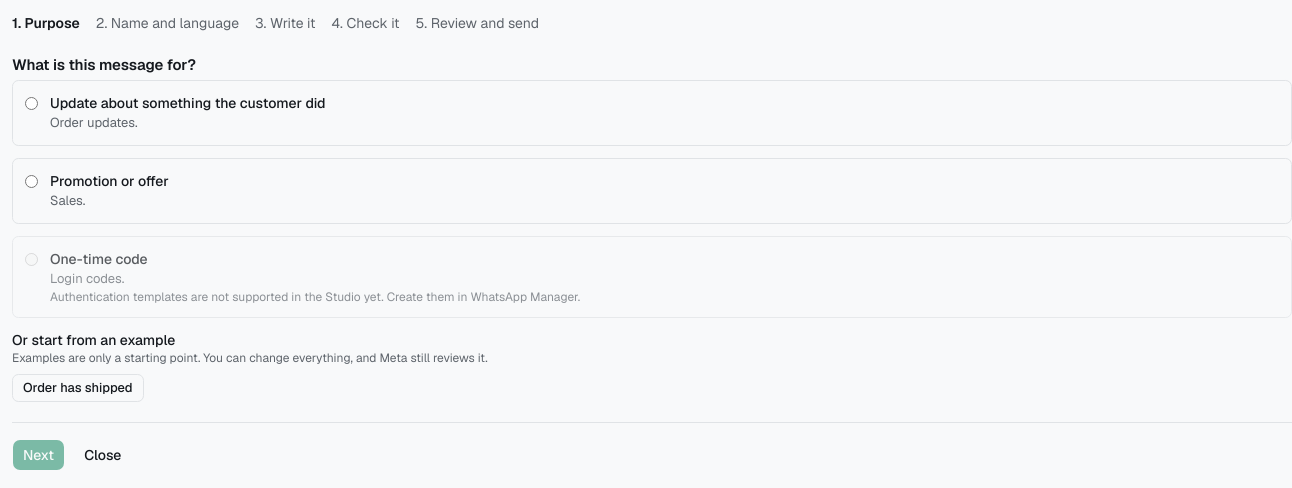
Test: TemplateStudio: guided steps › an example starter fills in a purpose and the message, but is only a starting point
The image size is (1292, 488).
Expected: the text "Meta still reviews it" is shown, 12,350 -> 488,366
Click the button "Order has shipped".
click(78, 388)  # box 12,374 -> 144,402
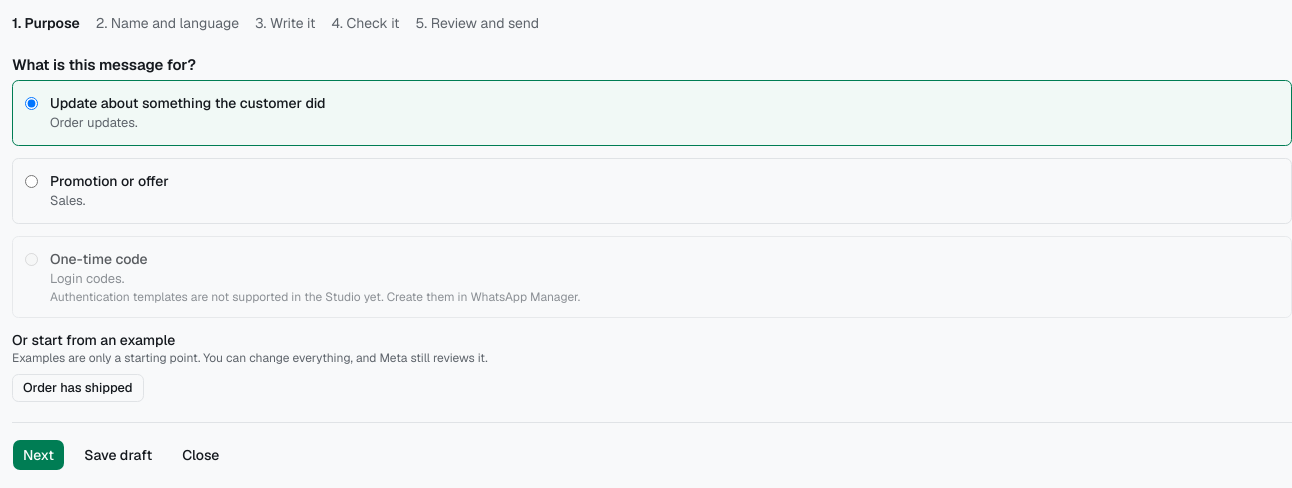
Expected: the radio button labelled "Update about something the customer did Order updates." is checked, 25,97 -> 38,110
Expected: the button "Next" is enabled, 12,439 -> 65,471
